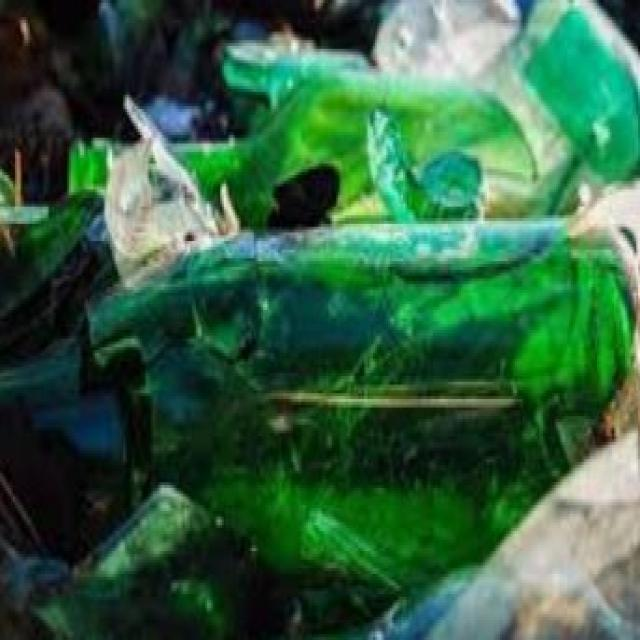electronic: (84, 218, 640, 590)
